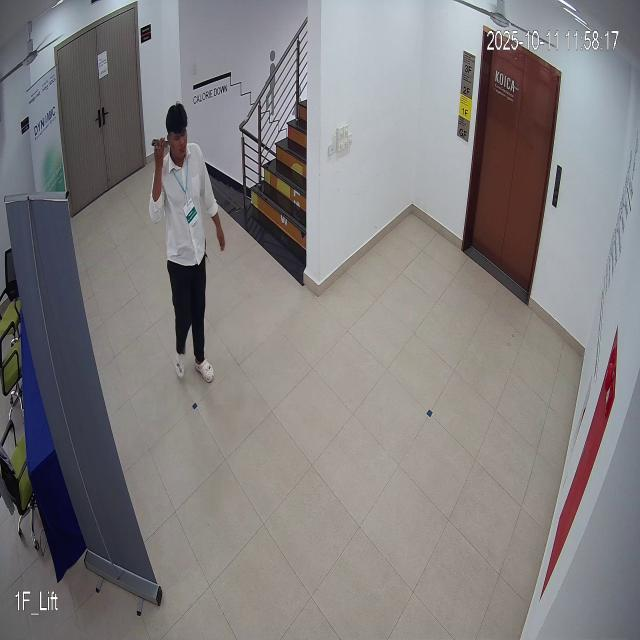face: (162, 100, 196, 166)
